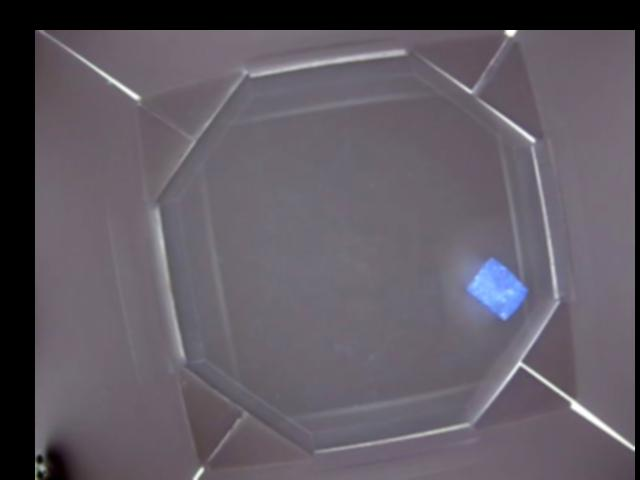Potato: (468, 256, 527, 320)
